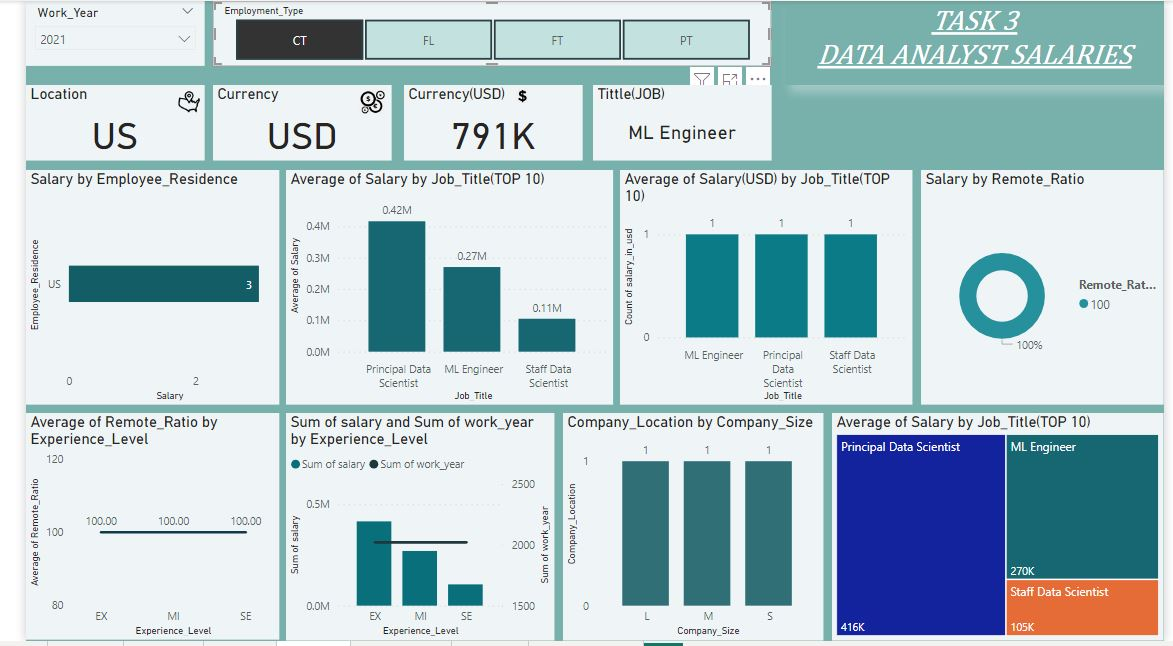

This screenshot's page, from the dashboard's own definition file:
{"tool":"powerbi","page":{"name":"Task 8","canvas":[1280,720],"ordinal":5},"visuals":[{"type":"slicer","fields":{"Values":["DS_Salaries New.employment_type"]},"box":[210.8,0,627.7,72.9],"z":0},{"type":"card","title":"Currency(USD)","fields":{"Values":["Sum(DS_Salaries New.salary_in_usd)"]},"box":[424.9,94.6,200.5,85.4],"z":0,"group":"g1"},{"type":"slicer","fields":{"Values":["DS_Salaries New.work_year"]},"box":[0,0,200.5,72.9],"z":1000},{"type":"image","box":[545.6,94.5,24.8,24.8],"z":1000,"group":"g1"},{"type":"card","title":"Location","fields":{"Values":["Min(DS_Salaries New.company_location)"]},"box":[0,94.6,200.5,85.4],"z":2000,"group":"g3"},{"type":"lineStackedColumnComboChart","fields":{"Category":["DS_Salaries New.experience_level"],"Y":["Sum(DS_Salaries New.salary)"],"Y2":["Sum(DS_Salaries New.work_year)"]},"box":[293,463.9,302,255.7],"z":3000},{"type":"card","title":"Currency","fields":{"Values":["Min(DS_Salaries New.salary_currency)"]},"box":[210.8,94.6,200.5,85.4],"z":4000,"group":"g2"},{"type":"card","title":"Tittle(JOB)","fields":{"Values":["Min(DS_Salaries New.job_title)"]},"box":[638,94.6,200.5,85.4],"z":6000,"group":"g4"},{"type":"clusteredBarChart","fields":{"Category":["DS_Salaries New.employee_residence"],"Y":["Count(DS_Salaries New.salary)"]},"box":[0,190.1,284.6,264.4],"z":7000},{"type":"clusteredColumnChart","fields":{"Category":["DS_Salaries New.company_size"],"Y":["CountNonNull(DS_Salaries New.company_location)"]},"box":[604,463.9,293,255.7],"z":8000},{"type":"donutChart","fields":{"Y":["Count(DS_Salaries New.salary)"],"Category":["DS_Salaries New.remote_ratio"]},"box":[1007.1,190.3,273.4,264.3],"z":9000},{"type":"clusteredColumnChart","title":"Average of Salary by Job_Title(TOP 10)","fields":{"Category":["DS_Salaries New.job_title"],"Y":["Avg(DS_Salaries New.salary)"]},"box":[292.5,190.1,367.9,264.4],"z":10000},{"type":"treemap","title":"Average of Salary by Job_Title(TOP 10)","fields":{"Group":["DS_Salaries New.job_title"],"Values":["Sum(DS_Salaries New.salary)"]},"box":[907.3,463.9,372.7,255.7],"z":11000},{"type":"clusteredColumnChart","title":"Average of Salary(USD) by Job_Title(TOP 10)","fields":{"Category":["DS_Salaries New.job_title"],"Y":["Count(DS_Salaries New.salary_in_usd)"]},"box":[668.2,190.1,328.5,264.4],"z":12000},{"type":"lineChart","fields":{"Category":["DS_Salaries New.experience_level"],"Y":["Avg(DS_Salaries New.remote_ratio)"]},"box":[0,463.5,284.6,255.4],"z":13000},{"type":"textbox","box":[854.4,0,426.1,94.6],"z":14000},{"type":"group","id":"g1","title":"Group 1","box":[424.9,94.5,200.5,85.5],"z":15001,"group":"g4"},{"type":"image","box":[367.9,94.5,42.8,37.1],"z":15502,"group":"g2"},{"type":"group","id":"g2","title":"Group 2","box":[210.8,94.5,200.5,85.5],"z":15503,"group":"g4"},{"type":"image","box":[166.5,94.5,33.8,37.1],"z":16004,"group":"g3"},{"type":"group","id":"g3","title":"Group 3","box":[0,94.5,200.5,85.5],"z":16005,"group":"g4"},{"type":"group","id":"g4","title":"Group 4","box":[0,94.5,838.5,85.5],"z":16006}]}

Visuals, with their boxes in screenshot pixels (x1, y1, x2, y2), scaled from the page's 1280x720 canvas onto the 1173x646 screenshot:
slicer - DS_Salaries New.employment_type: bbox=(193, 0, 768, 65)
"Currency(USD)" card: bbox=(389, 85, 573, 162)
slicer - DS_Salaries New.work_year: bbox=(0, 0, 184, 65)
image: bbox=(500, 85, 523, 107)
"Location" card: bbox=(0, 85, 184, 162)
lineStackedColumnComboChart - DS_Salaries New.experience_level x Sum(DS_Salaries New.salary): bbox=(269, 416, 545, 645)
"Currency" card: bbox=(193, 85, 377, 162)
"Tittle(JOB)" card: bbox=(585, 85, 768, 162)
clusteredBarChart - DS_Salaries New.employee_residence x Count(DS_Salaries New.salary): bbox=(0, 171, 261, 408)
clusteredColumnChart - DS_Salaries New.company_size x CountNonNull(DS_Salaries New.company_location): bbox=(554, 416, 822, 645)
donutChart - Count(DS_Salaries New.salary) x DS_Salaries New.remote_ratio: bbox=(923, 171, 1172, 408)
"Average of Salary by Job_Title(TOP 10)" clusteredColumnChart: bbox=(268, 171, 605, 408)
"Average of Salary by Job_Title(TOP 10)" treemap: bbox=(831, 416, 1172, 645)
"Average of Salary(USD) by Job_Title(TOP 10)" clusteredColumnChart: bbox=(612, 171, 913, 408)
lineChart - DS_Salaries New.experience_level x Avg(DS_Salaries New.remote_ratio): bbox=(0, 416, 261, 645)
textbox: bbox=(783, 0, 1172, 85)
"Group 1" group: bbox=(389, 85, 573, 162)
image: bbox=(337, 85, 376, 118)
"Group 2" group: bbox=(193, 85, 377, 162)
image: bbox=(153, 85, 184, 118)
"Group 3" group: bbox=(0, 85, 184, 162)
"Group 4" group: bbox=(0, 85, 768, 162)
